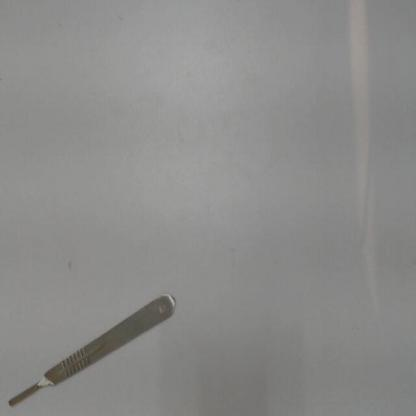No.4 BP Handle: (4, 289, 180, 410)
